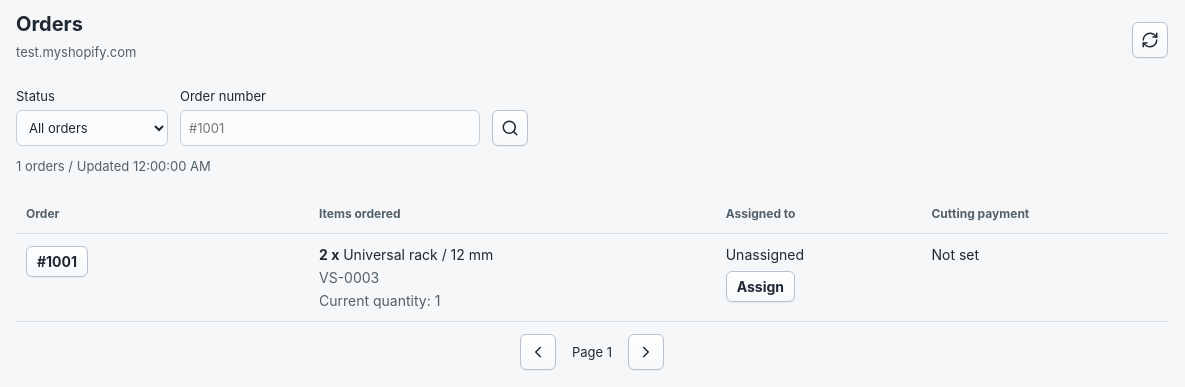
Test: Shopify orders page › shows failures without presenting stale orders as fresh results
Expected: the button "#1001" is shown, [26,246,88,277]
What coordinates should you click on to do the following:
click the button named "Refresh orders"
I would click on:
 (1150, 40)
Its box is [1132,22,1168,58].
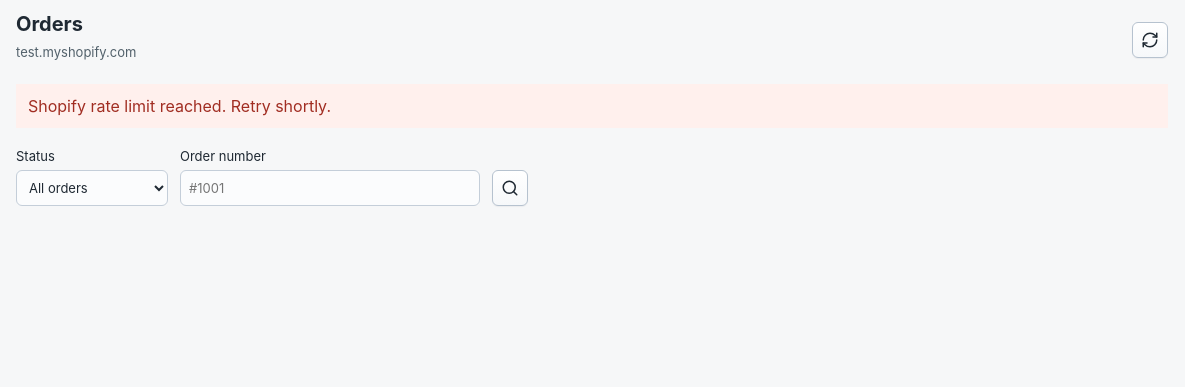
Now the message "Shopify rate limit reached. Retry shortly." is shown, box [16,84,1168,128]
